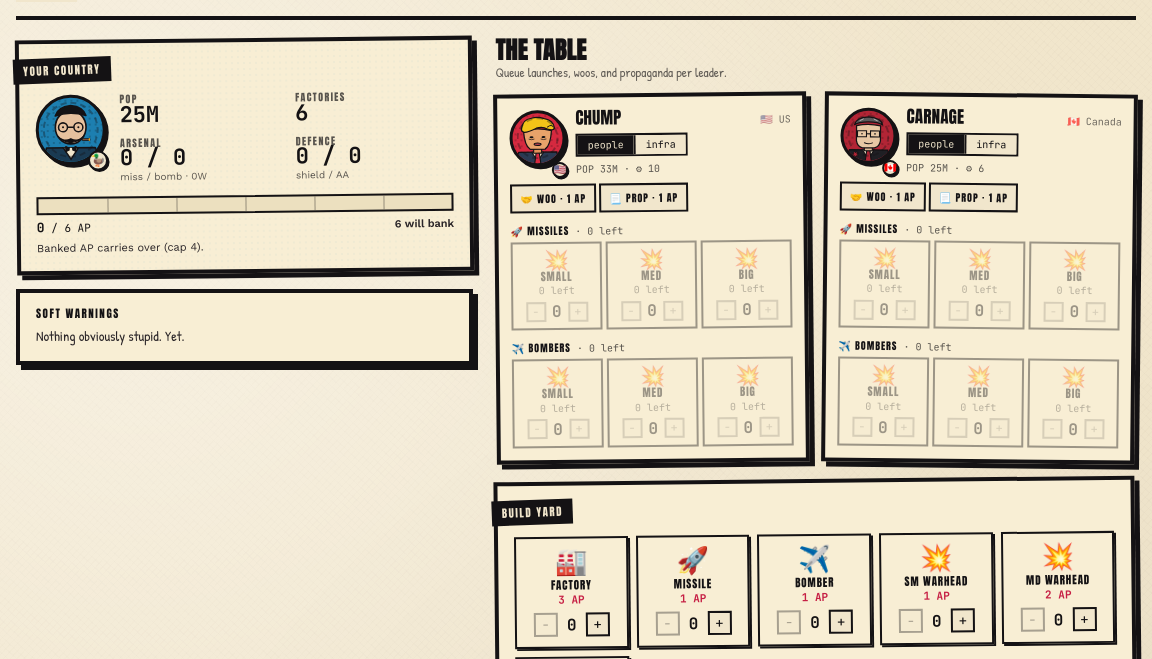
Scenario: <Planning> orders queue › × removes exactly that order and the subtotal updates
Click the button named "add Factory" at (598, 625), box [586,613,610,637]
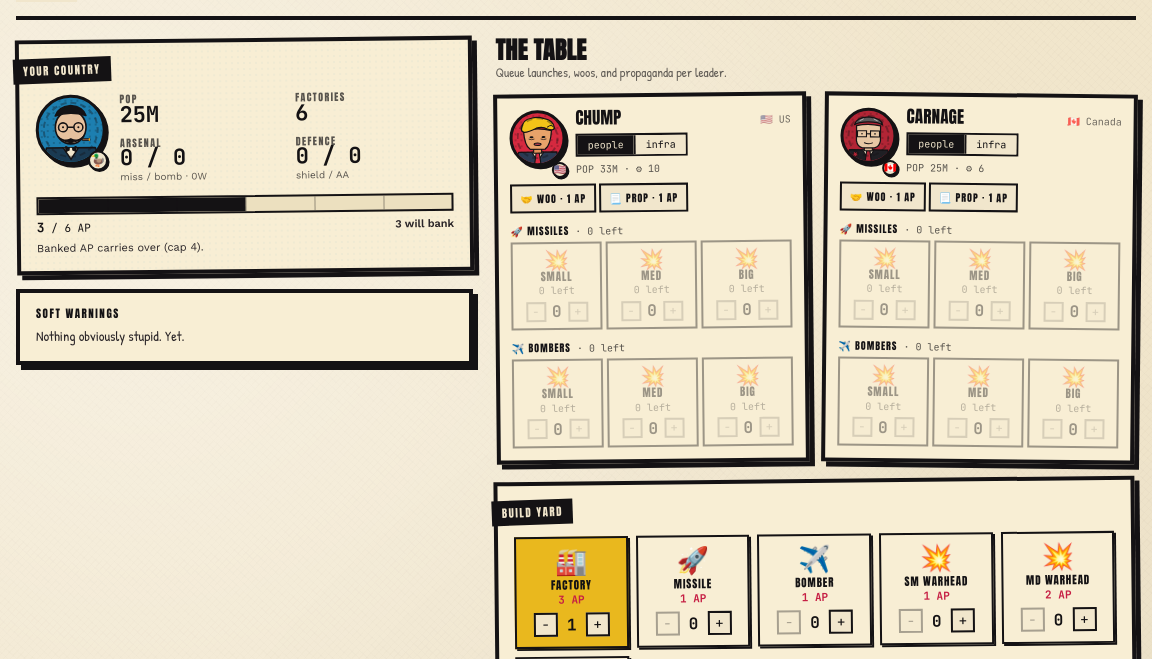
Click the button named "add Missile" at (720, 624), box [708,612,732,636]
(page scrolled)
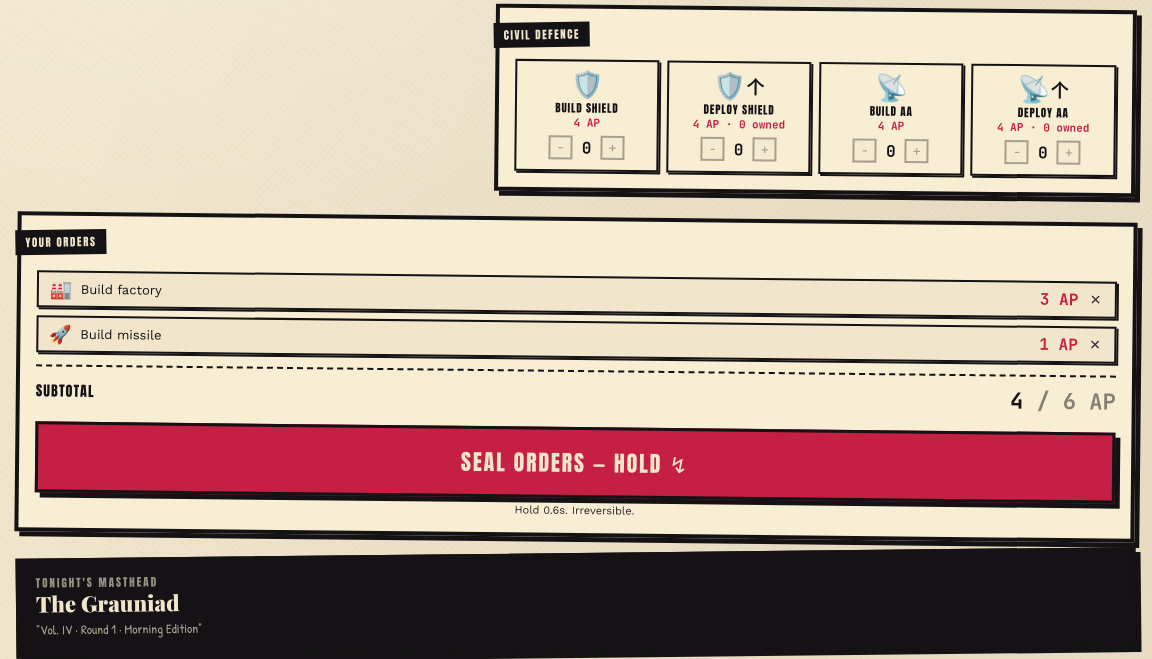
Click the button named "remove" at (1096, 300), box [1086,289,1105,310]
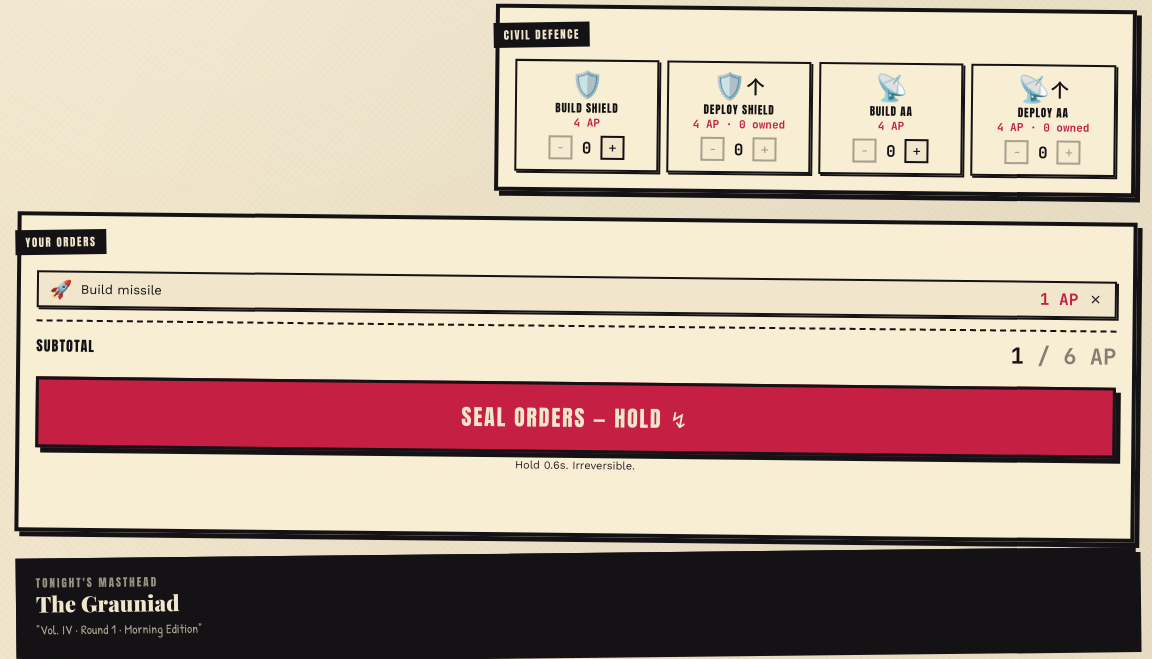
Now the text "Build factory" is gone
Now the text "Build missile" is shown, box [81,281,162,297]
